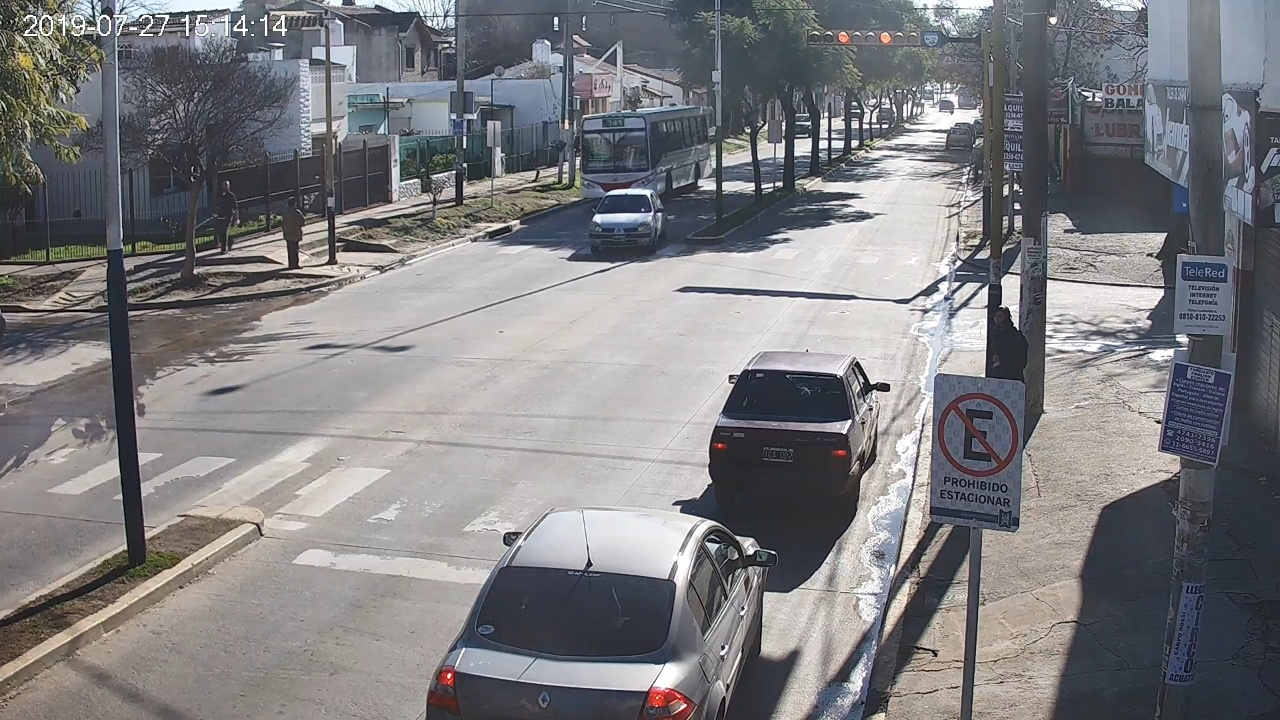car: (428, 503, 779, 720), (708, 351, 890, 508)
front car: (589, 188, 667, 254)
traffic light: (836, 31, 919, 45)
